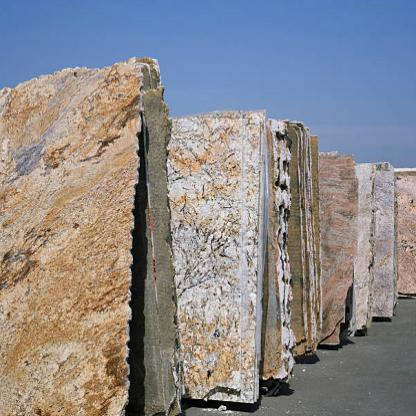Metamorphic_Quartize: (0, 47, 172, 415), (166, 98, 274, 391), (277, 155, 382, 367)
